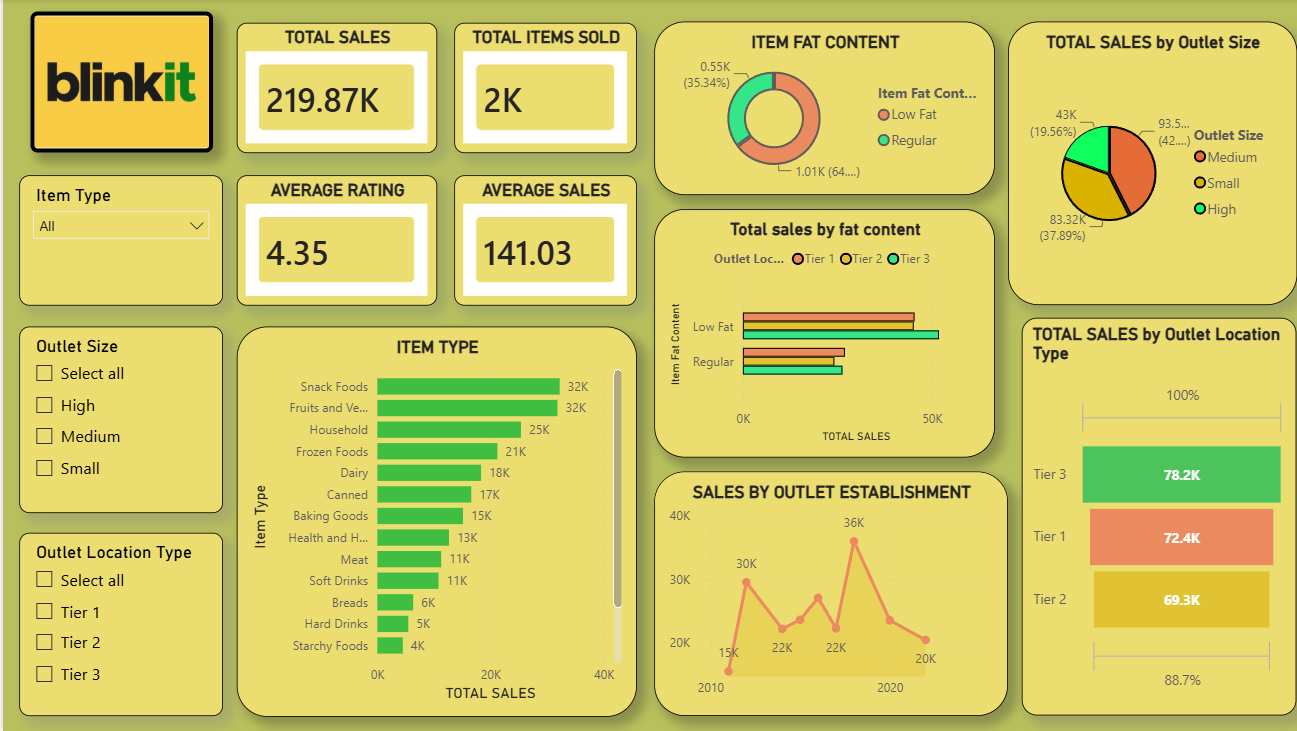

What the dashboard file says about the page in this screenshot:
{"tool":"powerbi","page":{"name":"Page 1","canvas":[1280,720],"ordinal":0},"visuals":[{"type":"clusteredBarChart","title":"ITEM TYPE","fields":{"Y":["BlinkIT Grocery Data.TOTAL SALES"],"Category":["BlinkIT Grocery Data.Item Type"]},"box":[228.9,320.9,393.1,383.1],"z":0},{"type":"clusteredBarChart","title":"Total sales by fat content","fields":{"Category":["BlinkIT Grocery Data.Item Fat Content"],"Y":["BlinkIT Grocery Data.TOTAL SALES"],"Series":["BlinkIT Grocery Data.Outlet Location Type"]},"box":[639.4,206.5,334.6,243.8],"z":1000},{"type":"donutChart","title":"ITEM FAT CONTENT","fields":{"Category":["BlinkIT Grocery Data.Item Fat Content"],"Y":["CountNonNull(BlinkIT Grocery Data.Item Type)"]},"box":[639.4,22.4,334.6,170.4],"z":2000},{"type":"lineChart","title":"SALES BY OUTLET ESTABLISHMENT","fields":{"Y":["BlinkIT Grocery Data.TOTAL SALES"],"Category":["BlinkIT Grocery Data.Outlet Establishment Year"]},"box":[639.4,464,347.1,240.1],"z":3000},{"type":"pieChart","fields":{"Category":["BlinkIT Grocery Data.Outlet Size"],"Y":["BlinkIT Grocery Data.TOTAL SALES"]},"box":[986.5,22.4,283.6,278.6],"z":4000},{"type":"funnel","fields":{"Category":["BlinkIT Grocery Data.Outlet Location Type"],"Y":["BlinkIT Grocery Data.TOTAL SALES"]},"box":[1000.1,313.5,269.9,390.6],"z":5000},{"type":"cardVisual","title":"TOTAL ITEMS SOLD","fields":{"Data":["BlinkIT Grocery Data.ITEMS SOLD"]},"box":[442.9,23.3,179.1,128.1],"z":9000},{"type":"slicer","fields":{"Values":["BlinkIT Grocery Data.Outlet Location Type"]},"box":[16.2,523.7,200.3,180.4],"z":10000},{"type":"slicer","fields":{"Values":["BlinkIT Grocery Data.Outlet Size"]},"box":[16.2,320.9,200.3,182.9],"z":11000},{"type":"image","box":[27,12.3,179.1,138.1],"z":12000},{"type":"slicer","fields":{"Values":["BlinkIT Grocery Data.Item Type"]},"box":[16.2,172.9,200.3,128.1],"z":12001},{"type":"cardVisual","title":"AVERAGE SALES","fields":{"Data":["BlinkIT Grocery Data.AVERAGE SALES"]},"box":[442.9,173,179.1,127.6],"z":12002},{"type":"cardVisual","title":"TOTAL SALES","fields":{"Data":["BlinkIT Grocery Data.TOTAL SALES"]},"box":[229.4,23.3,196.5,128.1],"z":12003},{"type":"cardVisual","title":"AVERAGE RATING","fields":{"Data":["BlinkIT Grocery Data.AVERAGE RATING"]},"box":[229.4,173,196.5,128.1],"z":12004}]}

Visuals, with their boxes in screenshot pixels (x1, y1, x2, y2), scaled from the page's 1280x720 canvas onto the 1297x731 screenshot:
"ITEM TYPE" clusteredBarChart: bbox=[232, 326, 630, 715]
"Total sales by fat content" clusteredBarChart: bbox=[648, 210, 987, 457]
"ITEM FAT CONTENT" donutChart: bbox=[648, 23, 987, 196]
"SALES BY OUTLET ESTABLISHMENT" lineChart: bbox=[648, 471, 1000, 715]
pieChart - BlinkIT Grocery Data.Outlet Size x BlinkIT Grocery Data.TOTAL SALES: bbox=[1000, 23, 1287, 306]
funnel - BlinkIT Grocery Data.Outlet Location Type x BlinkIT Grocery Data.TOTAL SALES: bbox=[1013, 318, 1287, 715]
"TOTAL ITEMS SOLD" cardVisual: bbox=[449, 24, 630, 154]
slicer - BlinkIT Grocery Data.Outlet Location Type: bbox=[16, 532, 219, 715]
slicer - BlinkIT Grocery Data.Outlet Size: bbox=[16, 326, 219, 511]
image: bbox=[27, 12, 209, 153]
slicer - BlinkIT Grocery Data.Item Type: bbox=[16, 176, 219, 306]
"AVERAGE SALES" cardVisual: bbox=[449, 176, 630, 305]
"TOTAL SALES" cardVisual: bbox=[232, 24, 432, 154]
"AVERAGE RATING" cardVisual: bbox=[232, 176, 432, 306]
